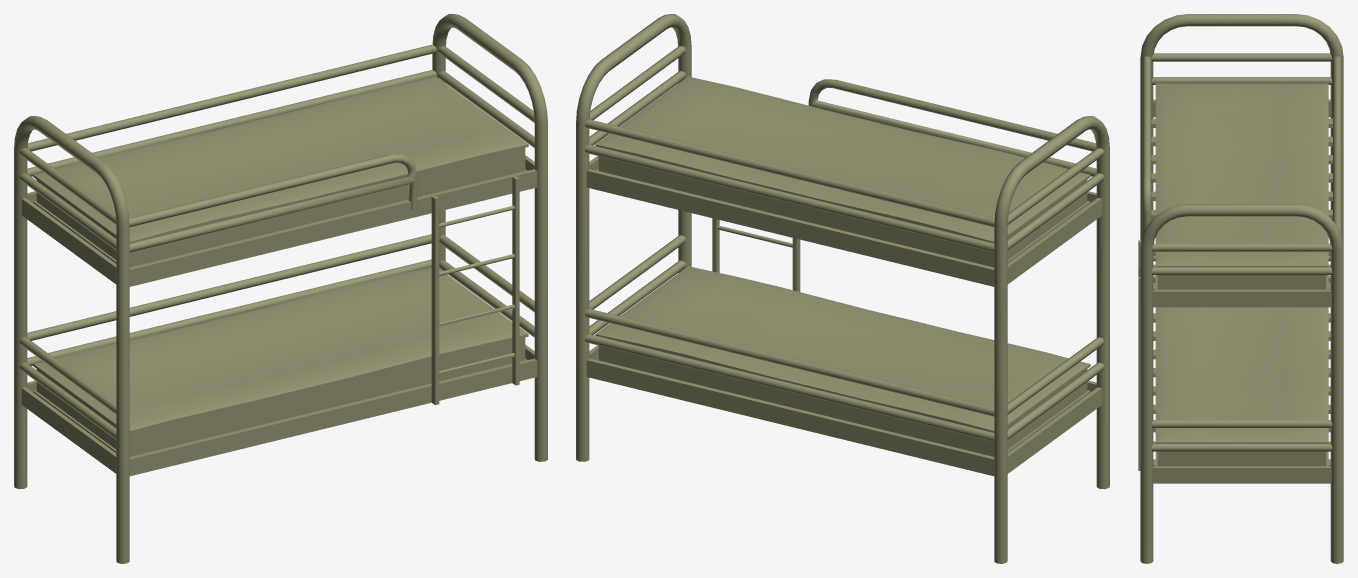
Rendered from bunkbed.fbx.
3 views of the same model, side by side, from view 1: azimuth 30°, elevation 25°; view 2: azimuth 150°, elevation 25°; view 3: azimuth 270°, elevation 25° (orthographic). The views are drawn at different scales.
Parts seen in each view (by area): view 1: low; view 2: low; view 3: low.
Part boxes in pixels (x1=…): low: x1=14, y1=14, x2=547, y2=563; low: x1=576, y1=14, x2=1109, y2=563; low: x1=1138, y1=14, x2=1343, y2=563.
Bounding box in the file's own units: 84.25 × 71.68 × 37.4.
